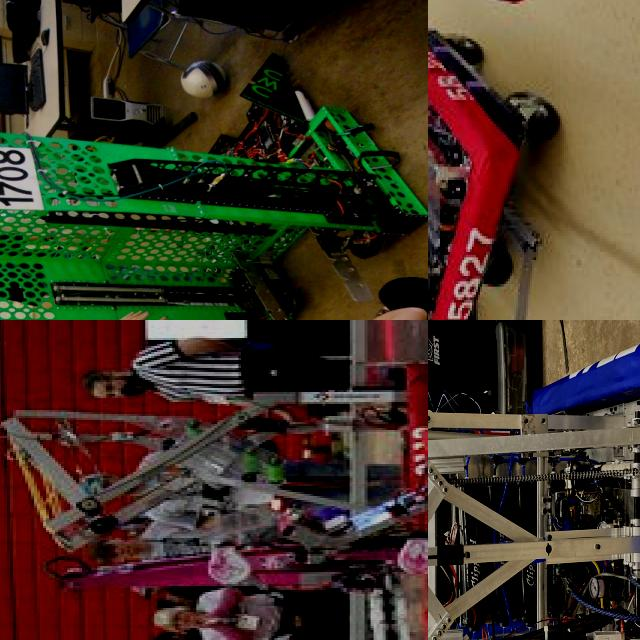FRC-Robots: (0, 40, 428, 320), (8, 320, 428, 543), (50, 424, 428, 640), (428, 320, 640, 640), (428, 64, 548, 320)
